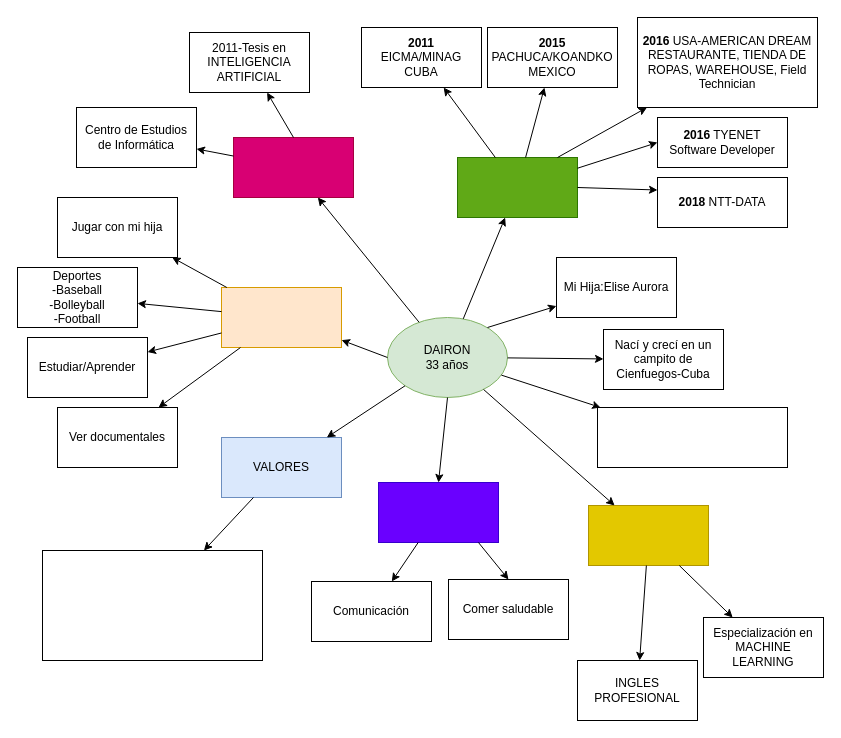
The diagram is 841 pixels wide and 738 high, and some of its shapes have lost their labels. The centre of each missing label's shape, as x and y in pixels:
"AFICIONES" belongs at pixel 281 317.
"Estudio/UCLV COMPUTER SCIENCE" belongs at pixel 293 167.
"MEJORAR" belongs at pixel 438 512.
"Mejores Amigos: Elise, Yaimit, Edelis, Nelson, Alex, Yoandy, Equipo de trabajo" belongs at pixel 692 437.
"OBJETIVOS PROFESIONALES" belongs at pixel 648 535.
"RESPONSABILIDAD TRABAJADOR SOLIDARIDAD TRANSPARENCIA HONESTIDAD LIBERTAD" belongs at pixel 152 605.
"TRABAJO" belongs at pixel 517 187.
